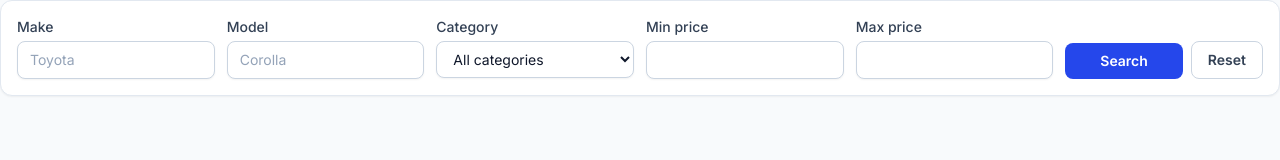
SearchBar › blocks a search where min price exceeds max price
This screenshot has width=1280, height=160.
Type "50000" into the number field labelled "Min price". click: {"x": 745, "y": 60}
box: [646,41,844,79]
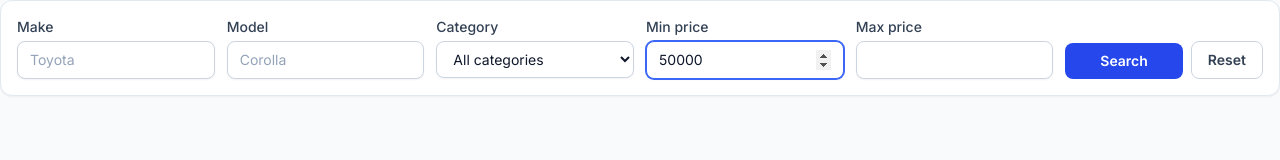
Type "10000" into the number field labelled "Max price". click: {"x": 955, "y": 60}
box: [856,41,1053,79]
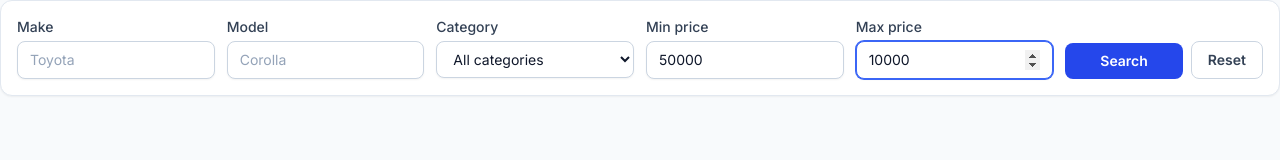
Click the button "Search". click: {"x": 1124, "y": 61}
box: [1065,43,1183,79]
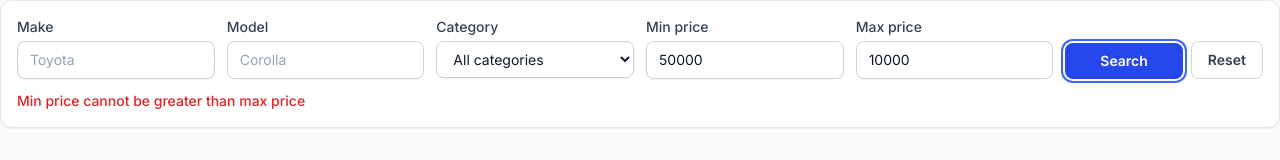
Check: the message reads "Min price cannot be greater than max price", box [17,92,305,109]
